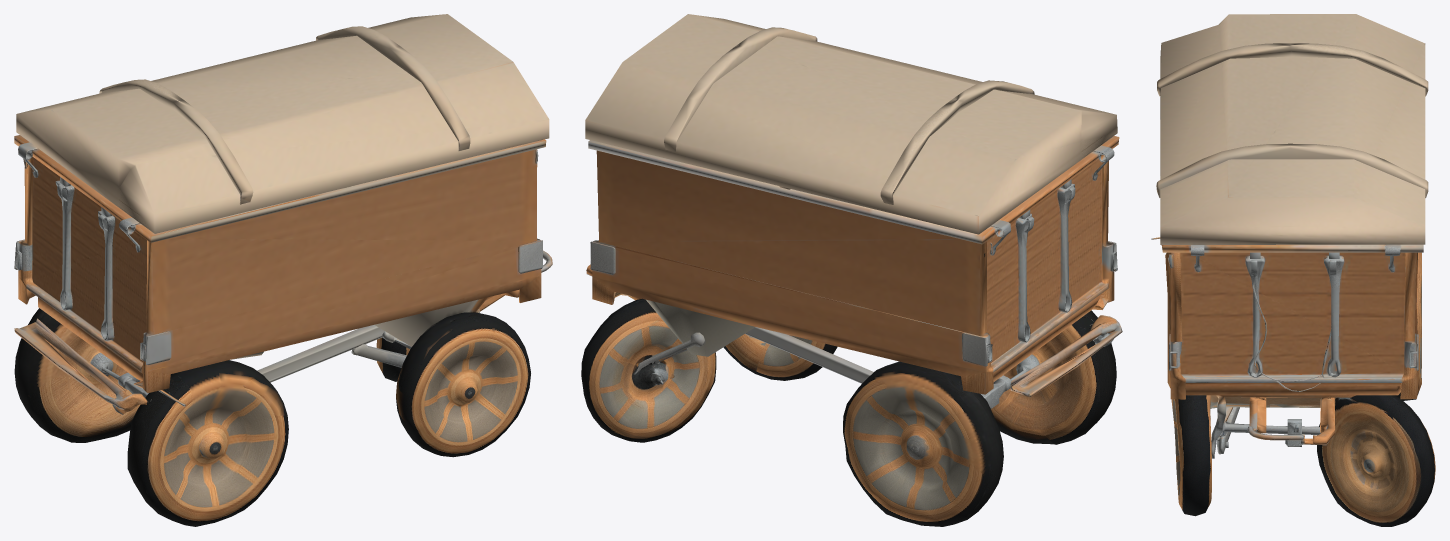
The model's file is feed_cart.glb.
3 views of the same model, side by side, from view 1: azimuth 30°, elevation 25°; view 2: azimuth 150°, elevation 25°; view 3: azimuth 270°, elevation 25° (orthographic). The views are drawn at different scales.
Visible parts, largest first — view 1: feed_cart; view 2: feed_cart; view 3: feed_cart.
Part boxes in pixels (x1,y1,x2,y2): feed_cart: (14,14,552,526); feed_cart: (581,14,1122,526); feed_cart: (1151,14,1435,526).
Bounding box in the file's own units: 1.35 × 1 × 0.7246.
1 material, 1 textured.
